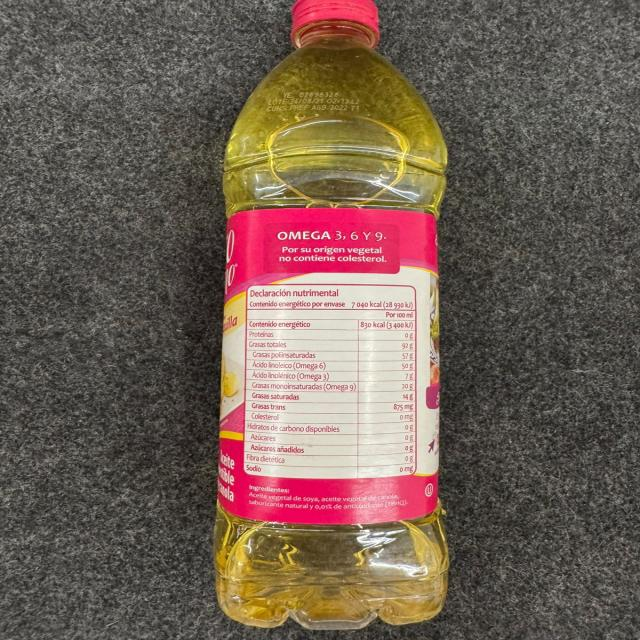Aceite Sabrosano 850ml: (209, 0, 453, 630)
